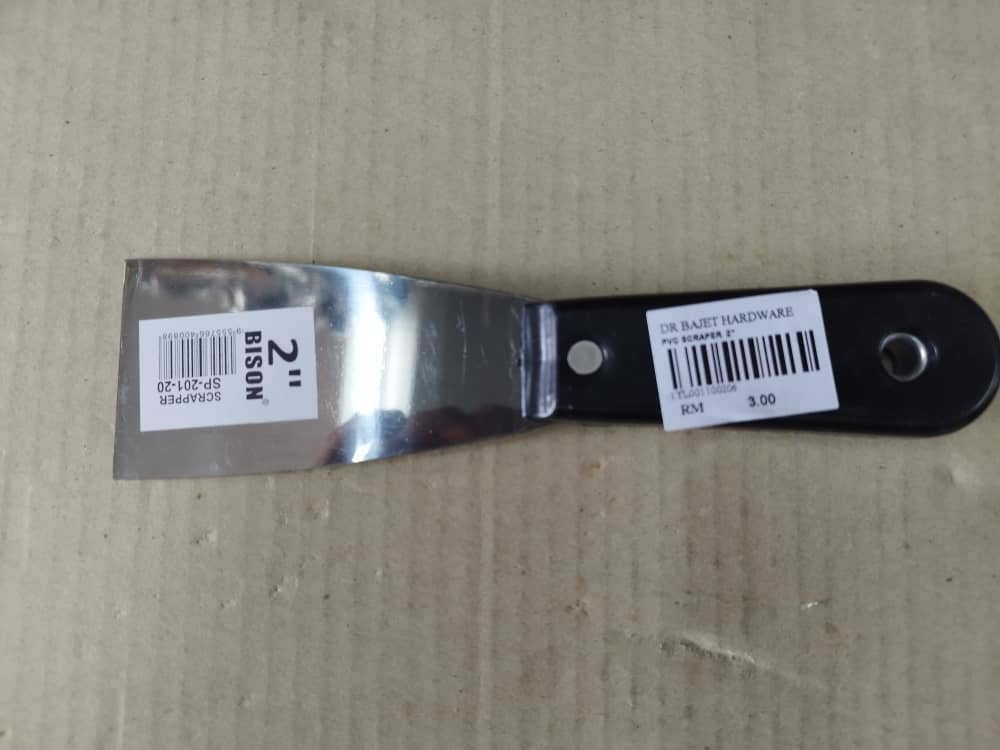sku_scrapper: (106, 250, 999, 487)
